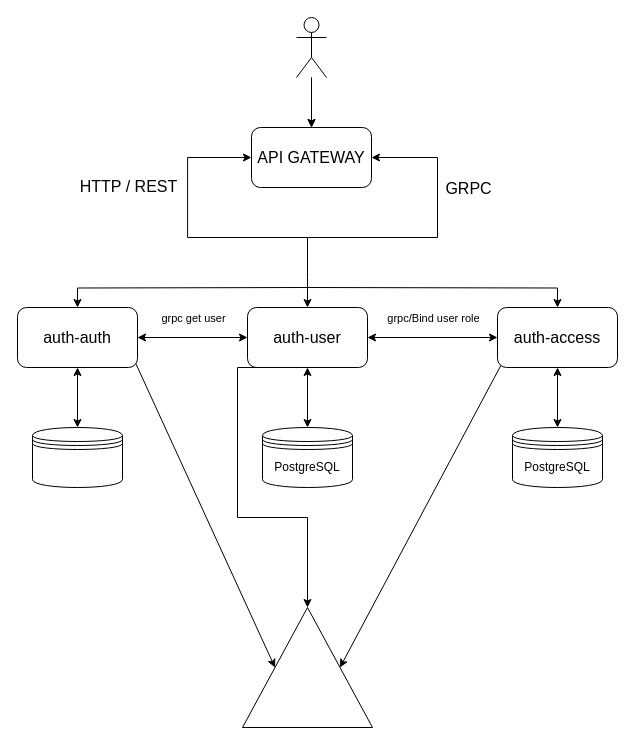
Image size: 635x745. Some labels were removed from this diagram. The shapes that lost their labels are listed below. From the top down, each one's centre as x and y in pixels, then its label:
pixel 311 47: client
pixel 77 457: redis
pixel 307 667: Secrets vault
